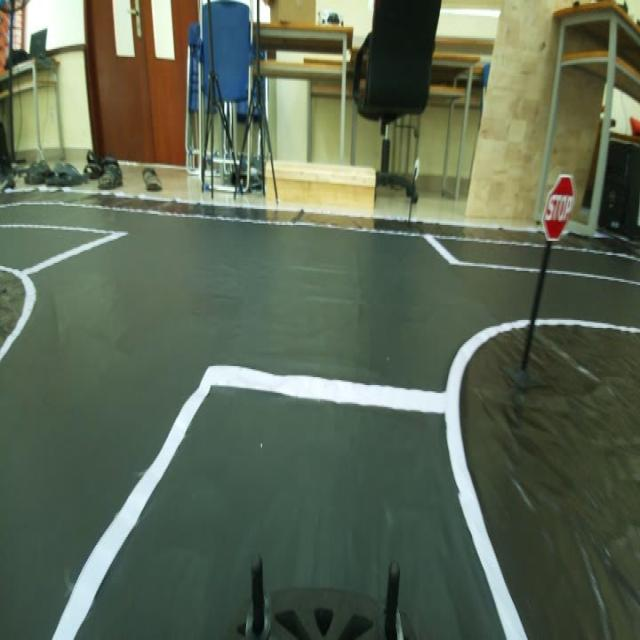stop: (540, 162, 577, 246)
